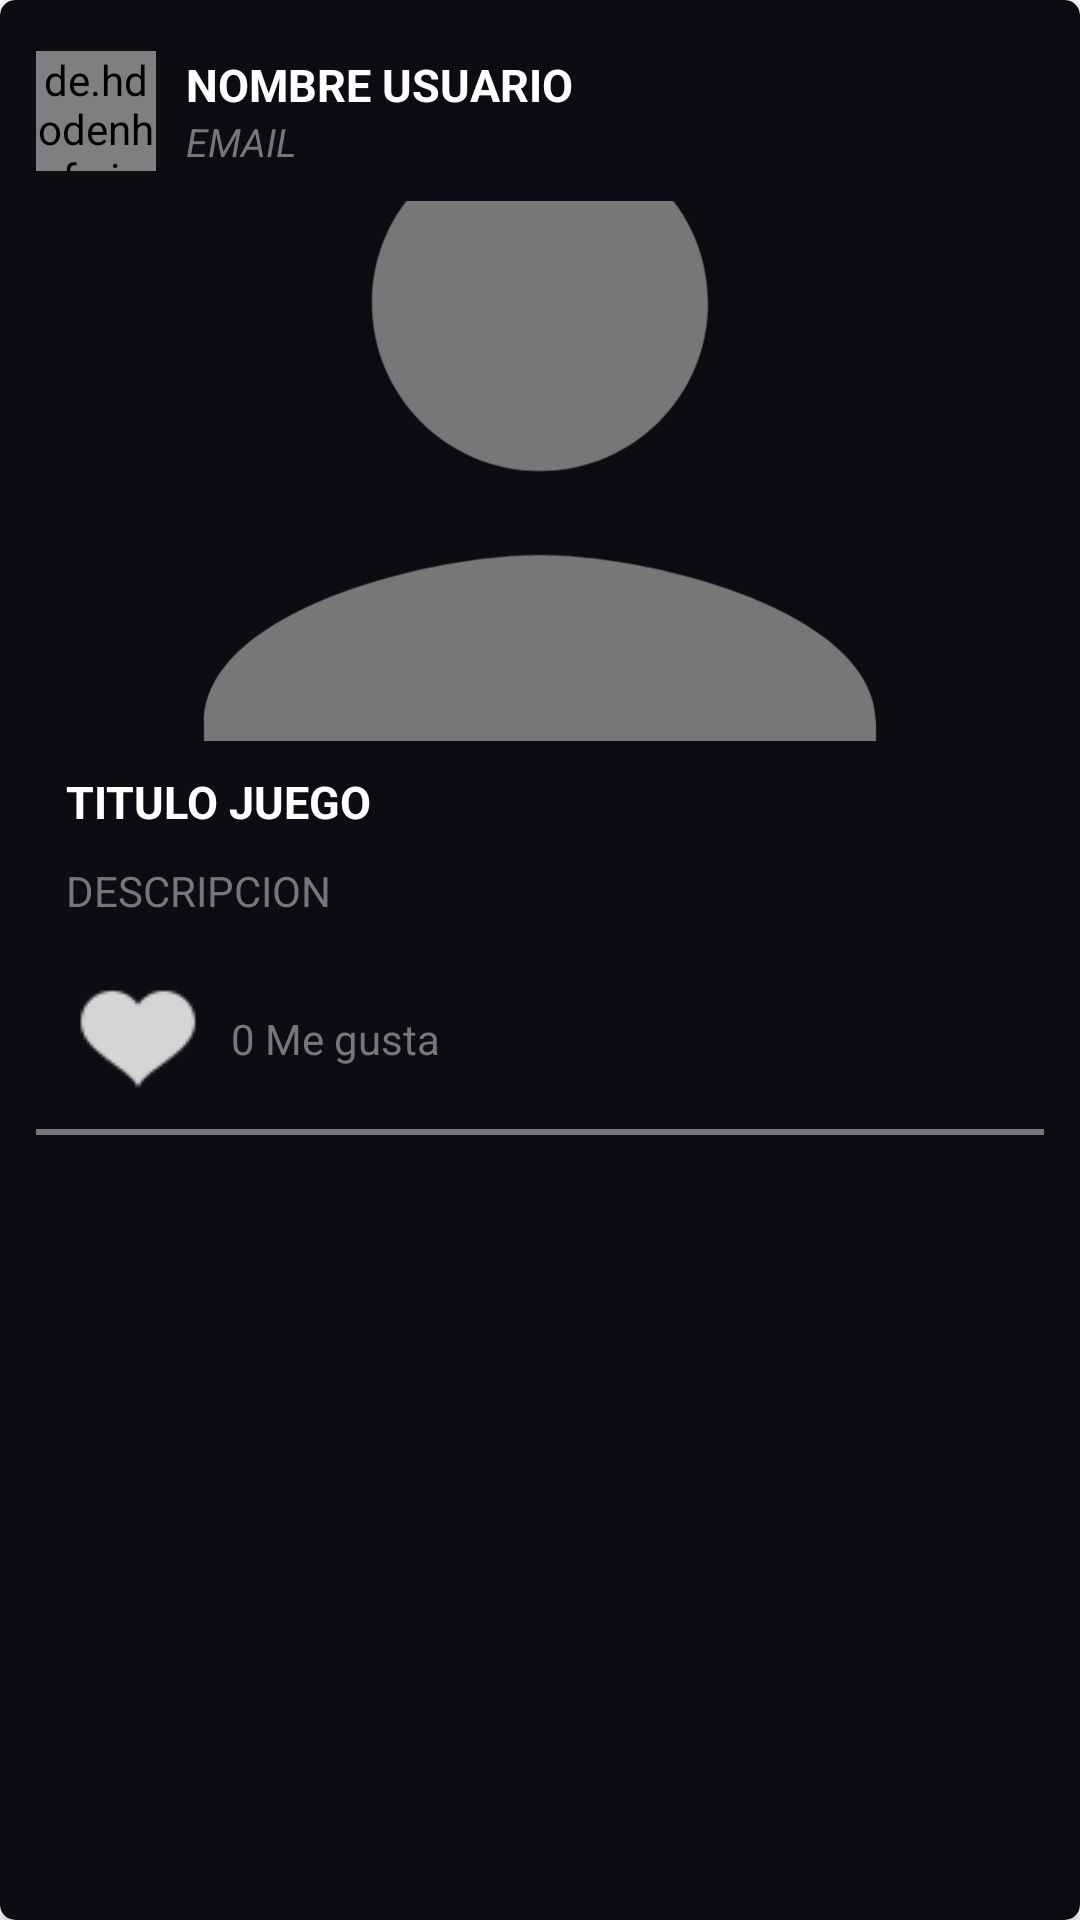

Icons on this 1080*1920 Android screen, each with the point to tap as (x=x, y=y):
corazon gris: (x=138, y=1038)
